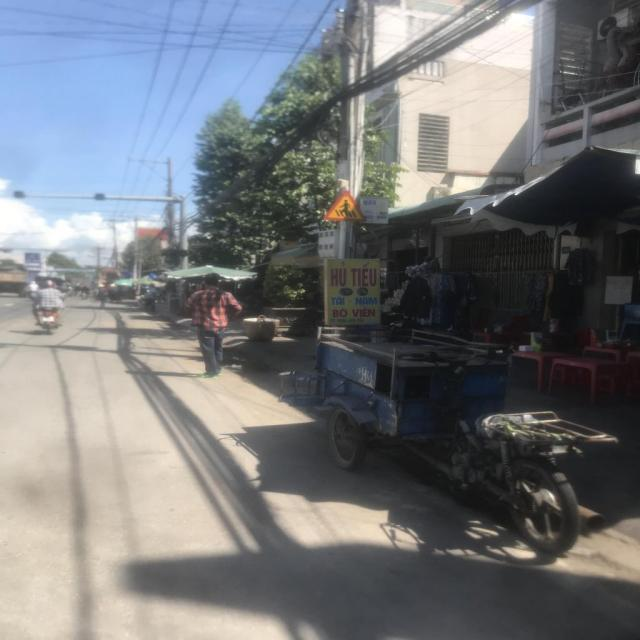224-duong-nguoi-di-bo-cat-ngang: (323, 188, 367, 222)
